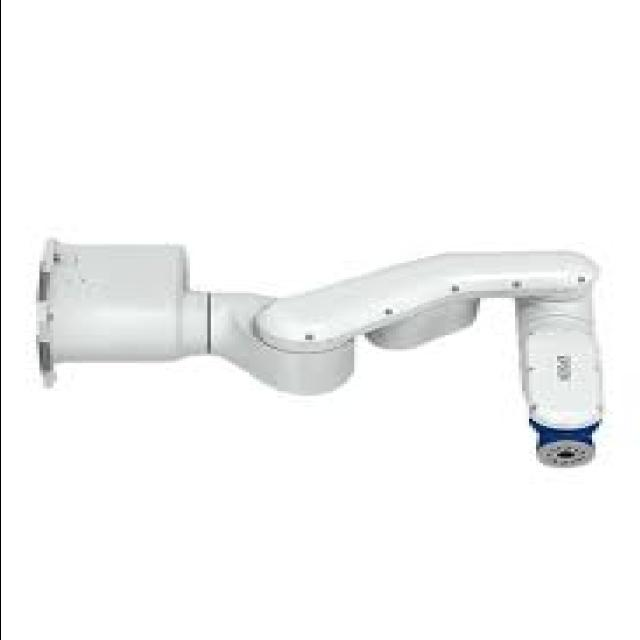Robotic-arm: (28, 237, 608, 468)
